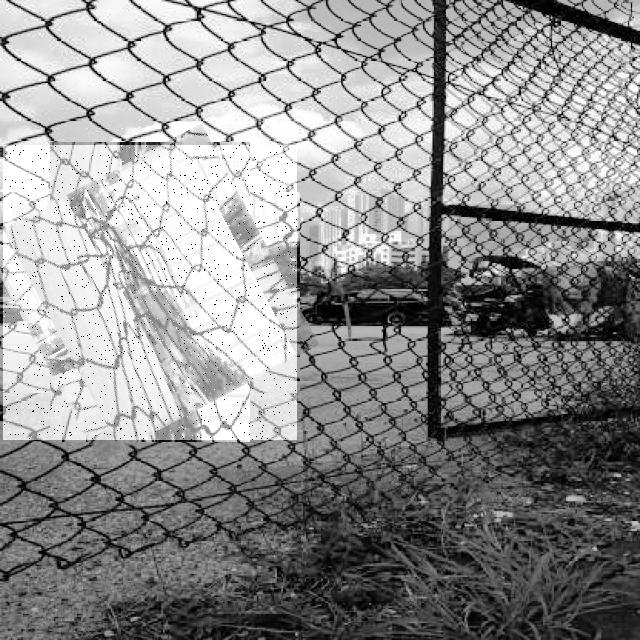anomaly-fence: (3, 145, 297, 440)
